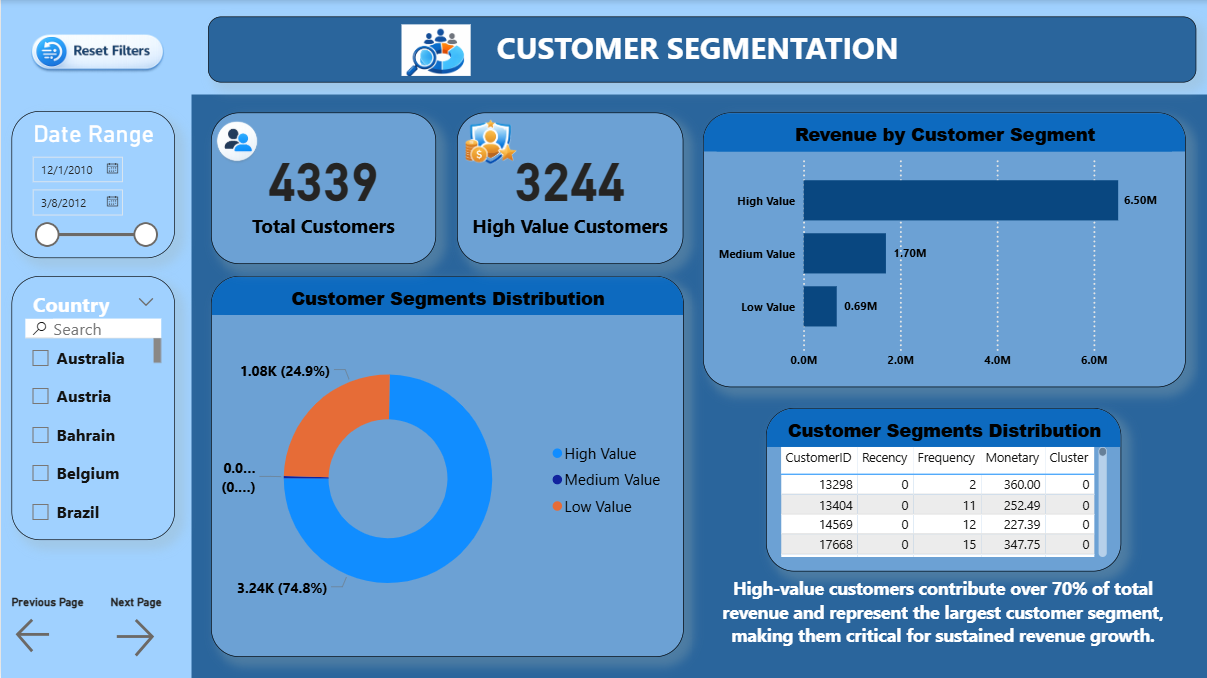

The dashboard page shown, as its layout file describes it:
{"tool":"powerbi","page":{"name":"Customer Segmentation","canvas":[1280,720],"ordinal":1},"visuals":[{"type":"shape","box":[202,100.2,1078.4,620.3],"z":1000},{"type":"clusteredBarChart","title":"Revenue by Customer Segment","fields":{"Y":["clean_sales.Clusters Revenue"],"Category":["customer_clusters.Cluster Type"]},"box":[744.4,119.3,512.2,291.1],"z":2000},{"type":"donutChart","title":"Customer Segments Distribution","fields":{"Category":["customer_clusters.Cluster Type"],"Y":["Count(clean_sales.CustomerID)"]},"box":[222.7,292.7,501,404],"z":3000},{"type":"card","title":"Total Customers","fields":{"Values":["clean_sales.Total Customers"]},"box":[222.7,119.3,238.6,160.7],"z":4000},{"type":"textbox","box":[219.5,17.5,1048.2,70],"z":6000},{"type":"image","box":[221.5,110.1,54.1,81.1],"z":7000},{"type":"image","box":[0,0,202,119.3],"z":8000},{"type":"tableEx","title":"Customer Segments Distribution","fields":{"Values":["clean_sales.CustomerID","customer_clusters.Recency","customer_clusters.Frequency","customer_clusters.Monetary","customer_clusters.Cluster"]},"box":[811.2,432.6,377,173.4],"z":9000},{"type":"textbox","box":[741.2,606,515.4,114.5],"z":10000},{"type":"slicer","fields":{"Values":["clean_sales.Country"]},"box":[11.1,292.7,173.4,279.9],"z":11000},{"type":"card","title":"Total Customers","fields":{"Values":["clean_sales.High Value Customers"]},"box":[483.5,119.3,240.2,160.7],"z":12000},{"type":"image","box":[424.7,3.2,73.2,100.2],"z":13000},{"type":"image","box":[483.5,105,65.2,90.7],"z":14000},{"type":"slicer","title":"Date Range","fields":{"Values":["DateTable.Date"]},"box":[11.1,117.7,173.4,155.9],"z":15000},{"type":"actionButton","title":"Next Page","box":[116.1,631.5,68.4,70],"z":16000},{"type":"actionButton","title":"Previous Page","box":[11.1,631.5,105,65.2],"z":17000}]}

Visuals, with their boxes in screenshot pixels (x1, y1, x2, y2), scaled from the page's 1280x720 canvas onto the 1207x678 screenshot:
shape: bbox=[190, 94, 1206, 677]
"Revenue by Customer Segment" clusteredBarChart: bbox=[702, 112, 1185, 386]
"Customer Segments Distribution" donutChart: bbox=[210, 276, 682, 656]
"Total Customers" card: bbox=[210, 112, 435, 264]
textbox: bbox=[207, 16, 1195, 82]
image: bbox=[209, 104, 260, 180]
image: bbox=[0, 0, 190, 112]
"Customer Segments Distribution" tableEx: bbox=[765, 407, 1120, 571]
textbox: bbox=[699, 571, 1185, 677]
slicer - clean_sales.Country: bbox=[10, 276, 174, 539]
"Total Customers" card: bbox=[456, 112, 682, 264]
image: bbox=[400, 3, 470, 97]
image: bbox=[456, 99, 517, 184]
"Date Range" slicer: bbox=[10, 111, 174, 258]
"Next Page" actionButton: bbox=[109, 595, 174, 661]
"Previous Page" actionButton: bbox=[10, 595, 109, 656]
